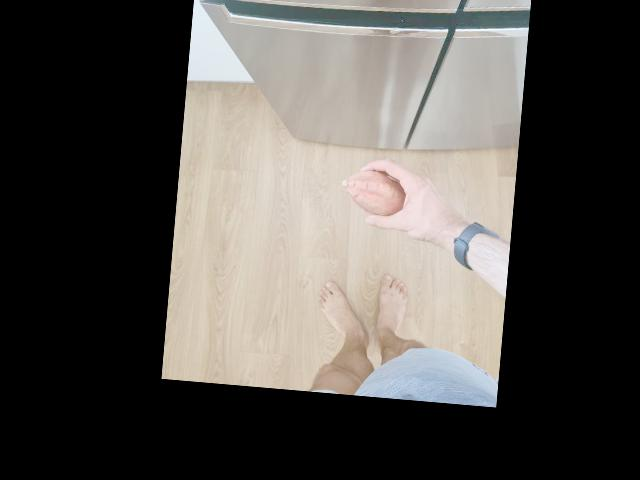sweet_potato: (338, 169, 408, 221)
